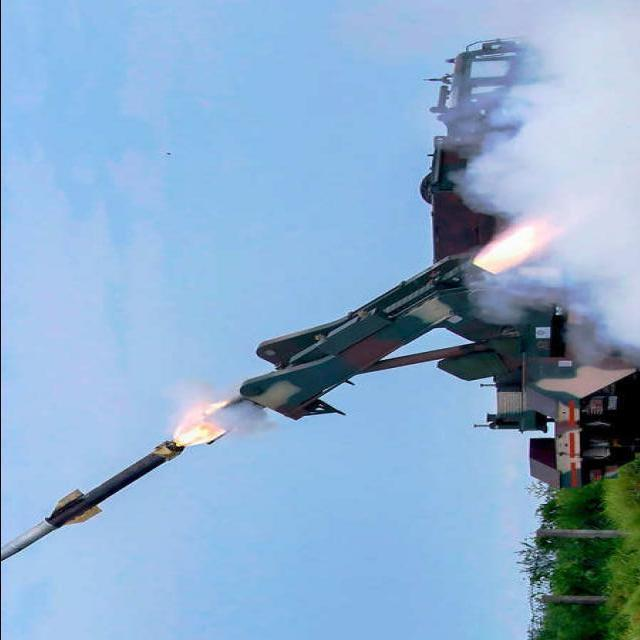missile: (0, 370, 259, 591)
